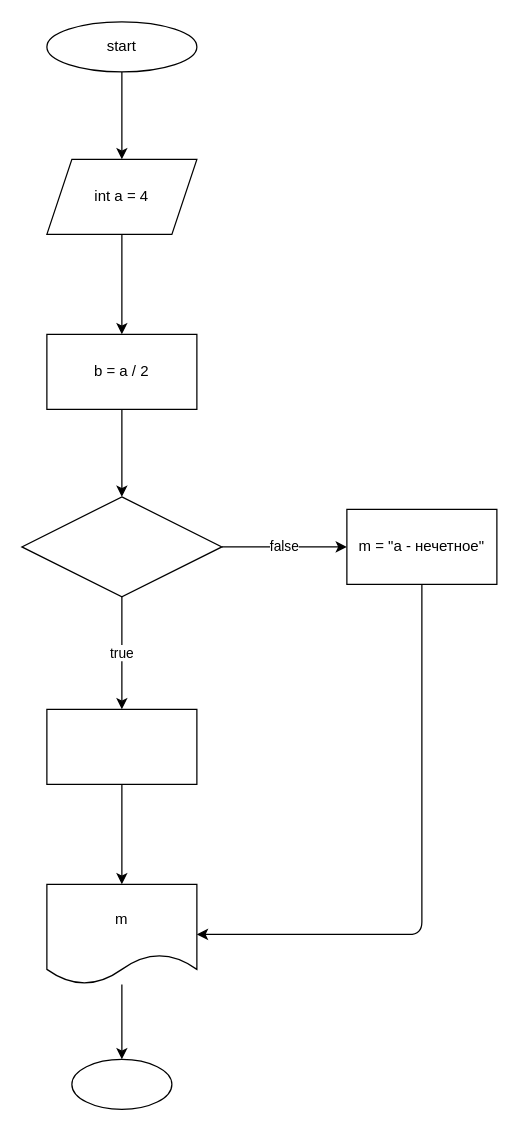
The diagram is 519 pixels wide and 1131 high, and some of its shapes have lost their labels. The shapes that lost their labels are listed below. From the top down, each one's centre as x and y in pixels, then its label:
point 121,546: a == b * 2
point 121,746: m = "a - четное"
point 121,1083: end
